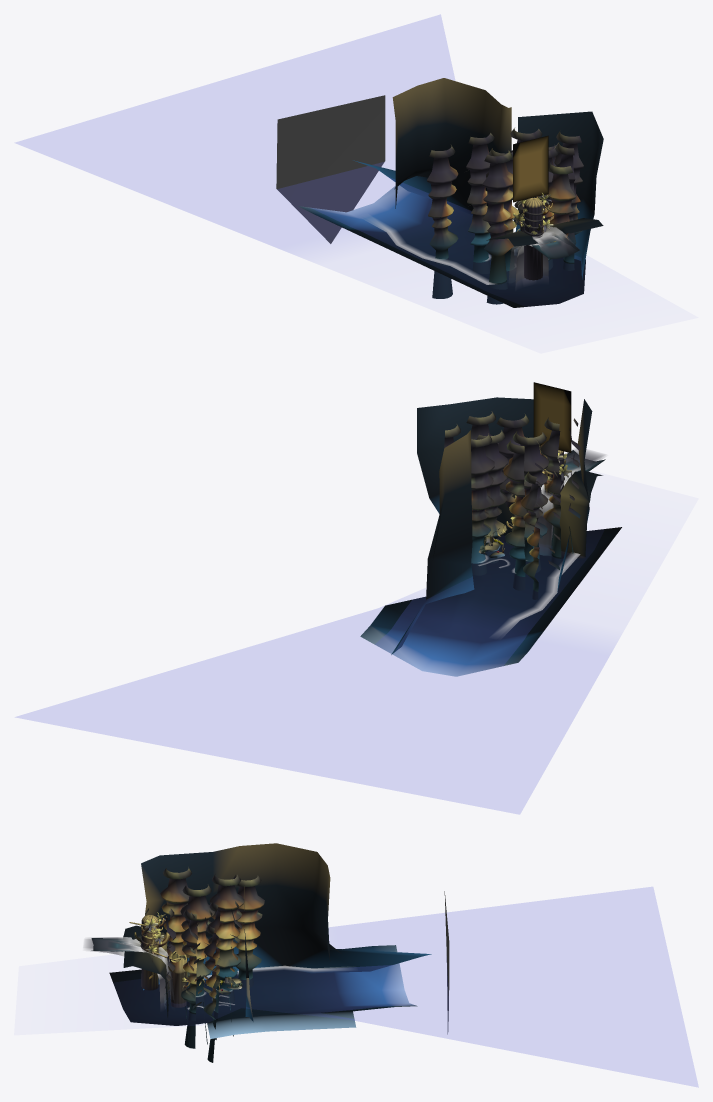
The model's file is 04Spiral.gltf.
3 views of the same model, one above another, from view 1: azimuth 30°, elevation 25°; view 2: azimuth 150°, elevation 25°; view 3: azimuth 270°, elevation 25° (orthographic). The views are drawn at different scales.
Visible parts, largest first — view 1: stg020_w16_Mesh_0000, stg020_o04_Mesh_0006, stg020_o04_Mesh_0001, stg020_g16_Mesh_0000, stg020_k04_Mesh_0000, stg020_falls_w_04_Mesh_0000, stg020_ripple_k_16_Mesh_0000; view 2: stg020_w16_Mesh_0000, stg020_o04_Mesh_0006, stg020_o04_Mesh_0001, stg020_k04_Mesh_0000, stg020_falls_w_04_Mesh_0000, stg020_ripple_k_16_Mesh_0000; view 3: stg020_w16_Mesh_0000, stg020_o04_Mesh_0006, stg020_o04_Mesh_0001, stg020_falls_w_04_Mesh_0000, stg020_ripple_k_16_Mesh_0000, stg020_o04_Mesh_0008.
Boxes of the visible parts, <box> form: stg020_w16_Mesh_0000: <box>16,14,472,260</box>; stg020_o04_Mesh_0006: <box>298,78,603,307</box>; stg020_o04_Mesh_0001: <box>427,128,583,304</box>; stg020_g16_Mesh_0000: <box>276,95,385,243</box>; stg020_k04_Mesh_0000: <box>513,135,548,202</box>; stg020_falls_w_04_Mesh_0000: <box>509,226,581,288</box>; stg020_ripple_k_16_Mesh_0000: <box>365,216,495,284</box>; stg020_w16_Mesh_0000: <box>15,593,619,814</box>; stg020_o04_Mesh_0006: <box>360,397,621,676</box>; stg020_o04_Mesh_0001: <box>444,411,580,599</box>; stg020_k04_Mesh_0000: <box>533,382,571,452</box>; stg020_falls_w_04_Mesh_0000: <box>537,449,604,555</box>; stg020_ripple_k_16_Mesh_0000: <box>478,553,580,635</box>; stg020_w16_Mesh_0000: <box>302,887,698,1087</box>; stg020_o04_Mesh_0006: <box>91,843,431,1038</box>; stg020_o04_Mesh_0001: <box>141,867,264,1062</box>; stg020_falls_w_04_Mesh_0000: <box>84,937,174,1009</box>; stg020_ripple_k_16_Mesh_0000: <box>187,965,350,1010</box>; stg020_o04_Mesh_0008: <box>129,916,232,989</box>.
Bounding box in the file's own units: 350 × 157 × 503.
